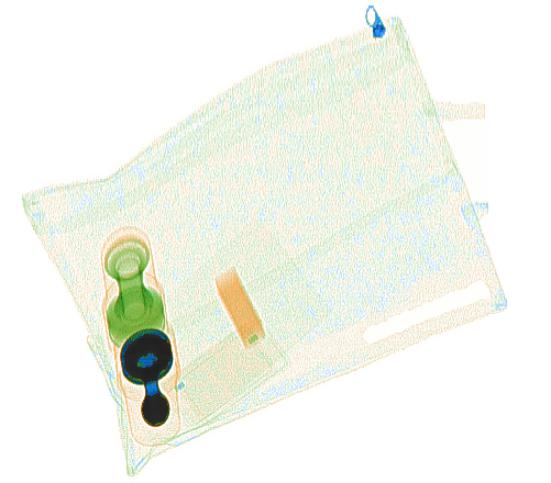seal: (100, 229, 165, 346), (115, 324, 177, 428)
